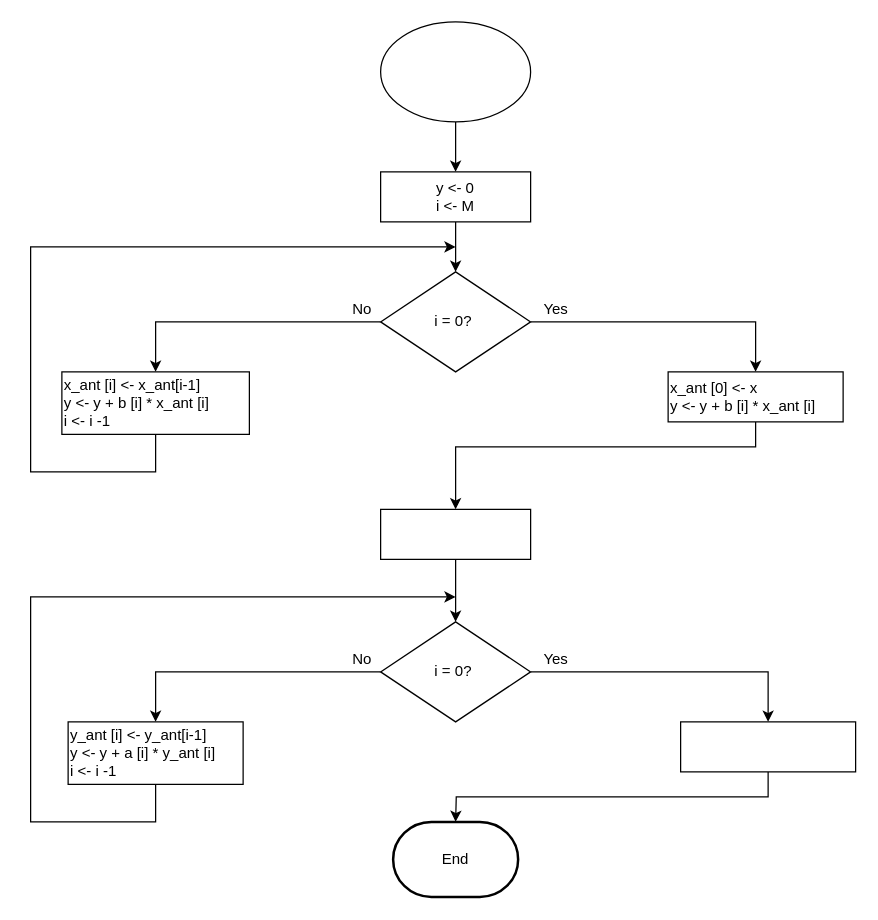
This 878x920 diagram has some shape labels left out. The box of each missing label's shape, as (x1, y1, x2, y2) in pixels:
calc_y IN: x OUT:: (379, 21, 531, 122)
i <- N: (379, 508, 531, 559)
y_ant [0] <- y y <- y + a [i] * y_ant [i]: (679, 721, 856, 772)
